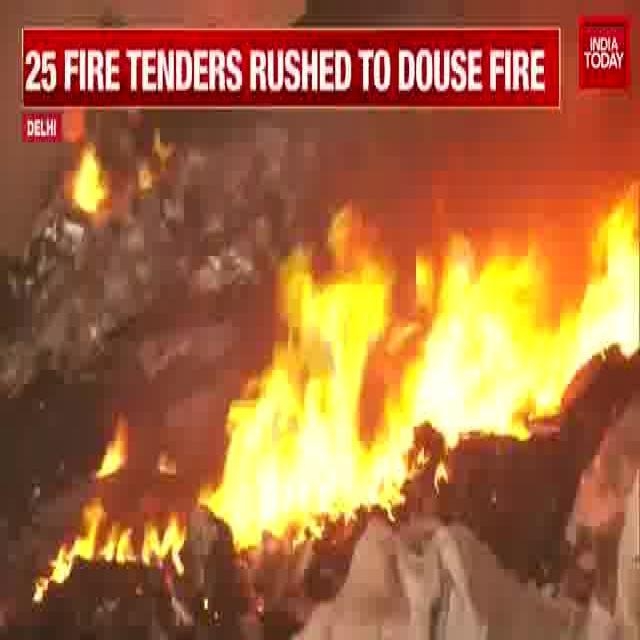Fire: (220, 266, 390, 534), (393, 253, 639, 427), (46, 504, 188, 584), (68, 149, 110, 211)
